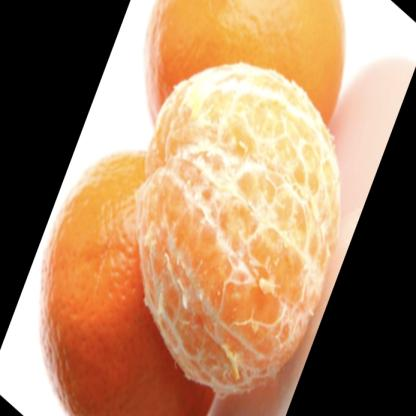fresh: (44, 1, 341, 416)
